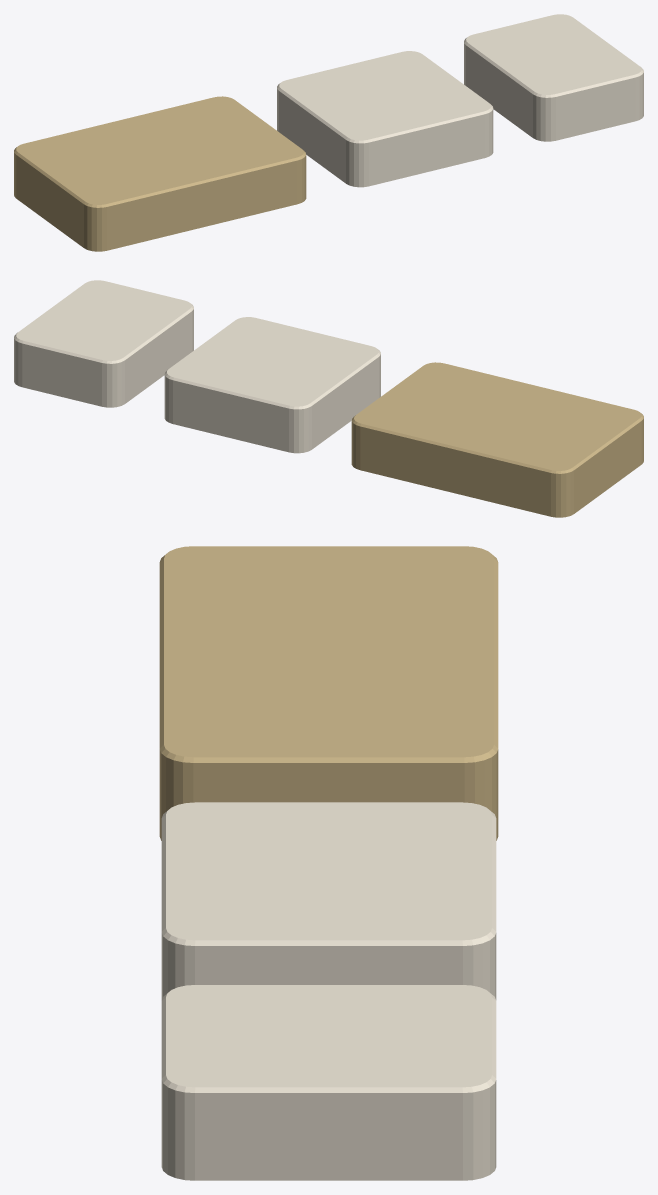
File: mahsulot.glb
3 views of the same model, one above another, from view 1: azimuth 30°, elevation 25°; view 2: azimuth 150°, elevation 25°; view 3: azimuth 270°, elevation 25° (orthographic). The views are drawn at different scales.
Visible parts, largest first — view 1: mahsulot_A, mahsulot_B, mahsulot_V; view 2: mahsulot_A, mahsulot_B, mahsulot_V; view 3: mahsulot_A, mahsulot_V, mahsulot_B.
Boxes of the visible parts, x1=… form: mahsulot_A: x1=14, y1=96, x2=306, y2=251; mahsulot_B: x1=277, y1=51, x2=493, y2=187; mahsulot_V: x1=464, y1=14, x2=643, y2=141; mahsulot_A: x1=351, y1=362, x2=643, y2=517; mahsulot_B: x1=164, y1=317, x2=380, y2=453; mahsulot_V: x1=14, y1=280, x2=193, y2=407; mahsulot_A: x1=159, y1=546, x2=498, y2=840; mahsulot_V: x1=161, y1=985, x2=496, y2=1180; mahsulot_B: x1=161, y1=802, x2=496, y2=999.
Bounding box in the file's own units: 0.4465 × 0.035 × 0.1173.
